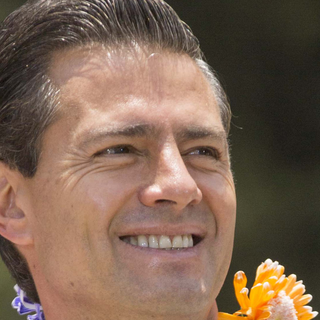eye: (93, 140, 145, 164), (181, 141, 224, 165)
